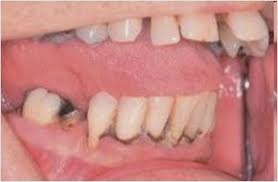Tooth Discoloration: (98, 121, 205, 151)
